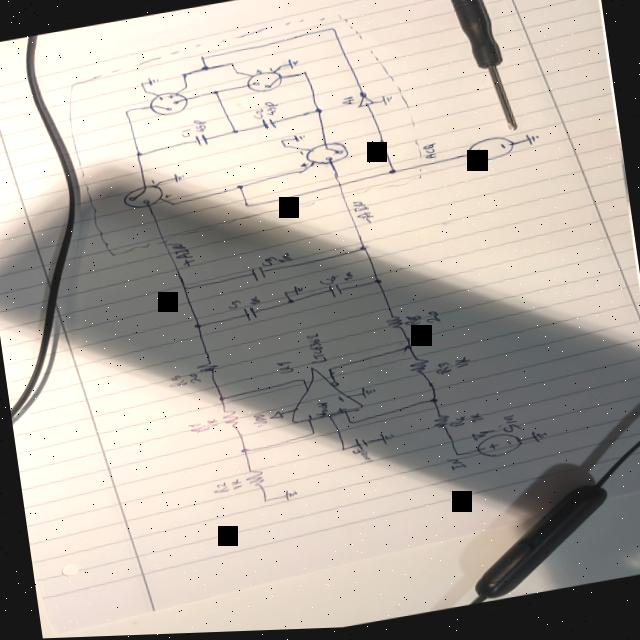capacitor: (248, 268, 266, 284), (258, 119, 276, 134), (326, 286, 342, 302), (241, 309, 257, 325), (192, 135, 208, 150), (351, 440, 368, 454)
crossover: (333, 186, 342, 192)
ground: (528, 434, 548, 449), (377, 434, 395, 450), (358, 388, 376, 403), (523, 137, 539, 151), (282, 490, 297, 504), (286, 60, 298, 73), (292, 136, 306, 147), (172, 174, 184, 186), (146, 77, 158, 89), (381, 98, 392, 109), (292, 288, 303, 299)
junction: (237, 449, 250, 458), (197, 66, 210, 75), (427, 401, 438, 409), (357, 248, 368, 256), (208, 91, 220, 98), (176, 74, 188, 81), (233, 186, 244, 193), (311, 111, 322, 118), (401, 348, 412, 355), (386, 172, 396, 179), (133, 153, 143, 160), (191, 326, 202, 332), (371, 282, 382, 288), (216, 398, 226, 404), (298, 73, 308, 79), (326, 30, 336, 36), (196, 57, 206, 63), (285, 302, 294, 308), (230, 132, 238, 138), (338, 450, 346, 456), (346, 423, 354, 429), (308, 434, 316, 440), (167, 203, 175, 209), (232, 72, 240, 78), (182, 86, 190, 92), (260, 501, 268, 506), (242, 206, 250, 211), (324, 370, 332, 375), (453, 456, 461, 461), (227, 64, 234, 69), (180, 289, 187, 294), (122, 111, 128, 116), (296, 172, 302, 177), (300, 380, 306, 385), (142, 92, 148, 97), (277, 67, 283, 72), (138, 83, 144, 87), (279, 142, 283, 146), (282, 147, 286, 151), (156, 182, 160, 186), (282, 294, 286, 298)
resistor: (242, 470, 264, 491), (406, 361, 429, 379), (218, 412, 238, 432), (382, 317, 404, 335), (430, 417, 450, 434), (194, 363, 217, 377)
source: (464, 137, 517, 169), (472, 435, 523, 464), (267, 413, 283, 423)
switch: (292, 141, 350, 173), (142, 87, 190, 122), (241, 68, 285, 99), (120, 185, 164, 213)
text: (164, 241, 195, 272), (303, 334, 327, 368), (350, 202, 374, 231), (494, 417, 521, 439), (419, 144, 438, 165), (272, 362, 294, 379), (468, 433, 494, 447), (444, 460, 466, 476), (350, 451, 370, 468), (166, 375, 187, 391), (186, 423, 208, 437), (261, 103, 279, 120), (432, 365, 452, 380), (250, 415, 268, 431), (402, 317, 421, 332), (451, 359, 470, 374), (210, 483, 230, 497), (191, 119, 207, 136), (422, 313, 440, 328), (446, 419, 466, 432), (317, 278, 340, 289), (313, 404, 328, 420), (274, 255, 293, 267), (259, 259, 277, 270), (467, 416, 483, 428), (250, 110, 263, 124), (341, 273, 354, 286), (229, 480, 242, 493), (187, 374, 200, 387), (339, 99, 354, 110), (226, 302, 242, 312), (247, 297, 260, 309), (178, 130, 191, 141), (204, 421, 217, 431), (334, 409, 347, 417), (336, 398, 344, 406), (306, 416, 312, 423), (298, 166, 306, 171), (162, 196, 170, 201), (253, 73, 262, 77), (298, 154, 304, 159), (148, 181, 154, 186), (166, 97, 172, 102), (156, 99, 160, 103), (267, 70, 271, 74)
